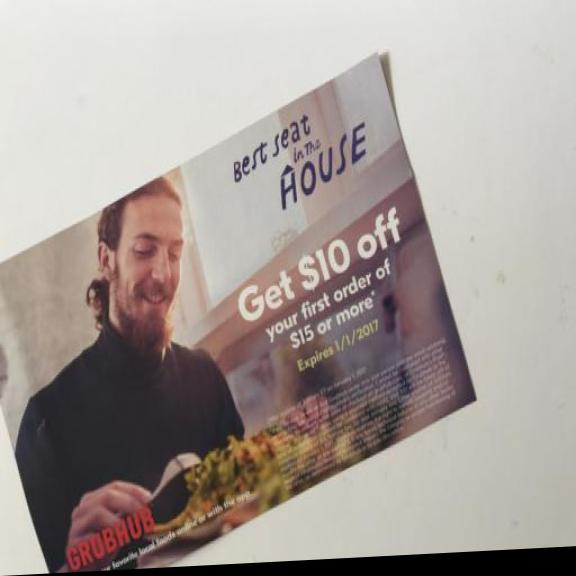Kertas: (0, 36, 490, 576)
